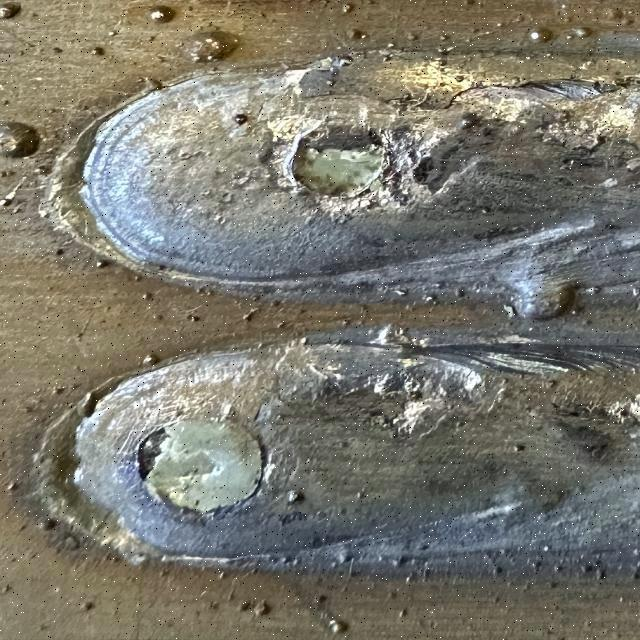Spatters: (235, 114, 248, 125), (399, 608, 406, 616)
